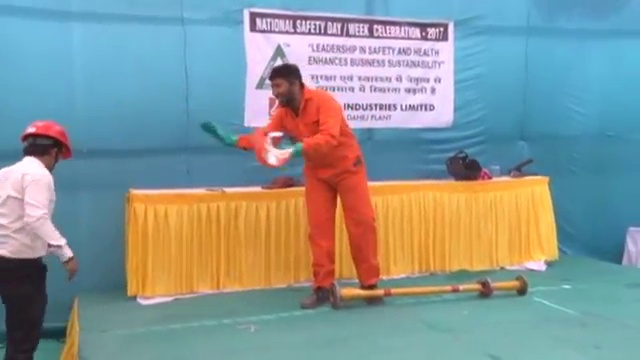helmet: (20, 118, 73, 159)
helmet_off: (270, 64, 306, 107)
helmet_on: (18, 115, 73, 179)
person: (222, 64, 382, 309), (1, 113, 74, 359)
